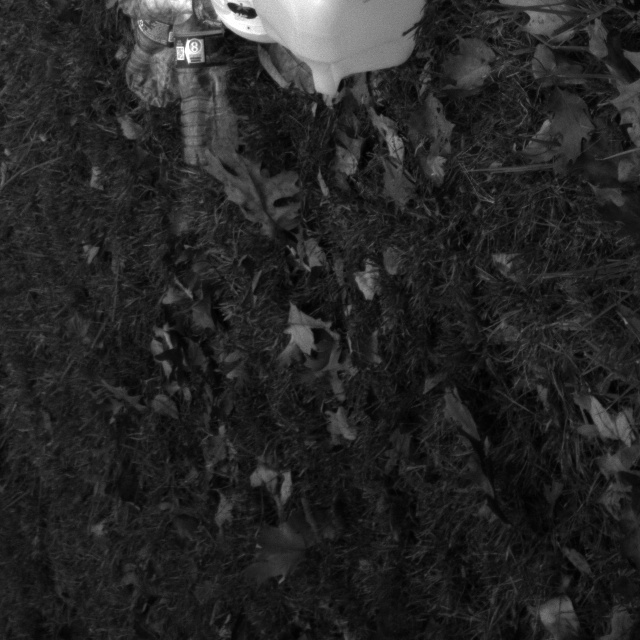bottle: (170, 0, 237, 168)
can: (246, 0, 430, 97)
